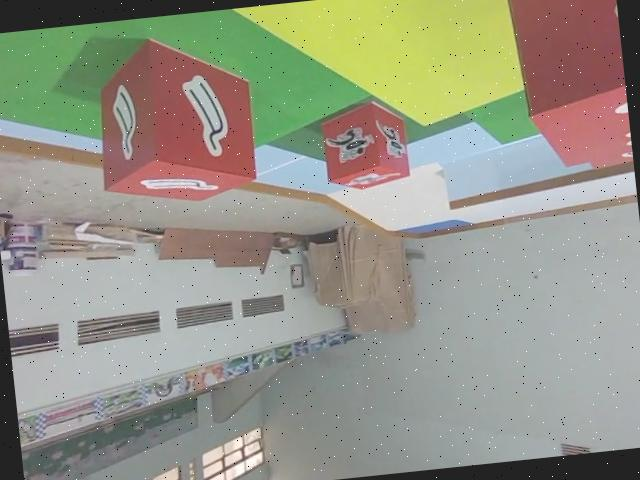R1: (319, 96, 413, 193)
R2 Real: (85, 25, 265, 213)
